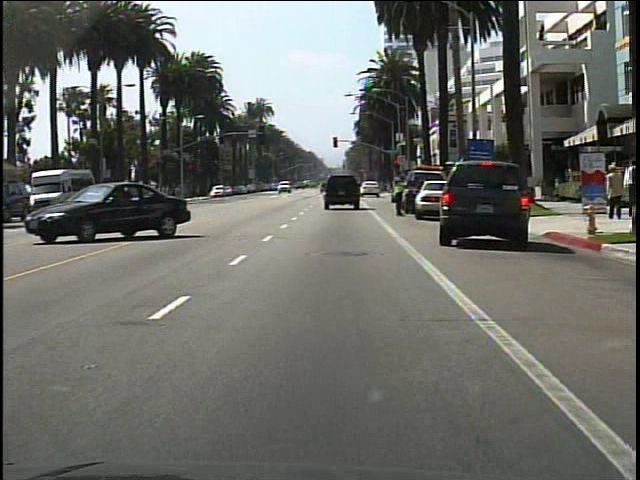person: (601, 160, 624, 224), (388, 171, 407, 219)
